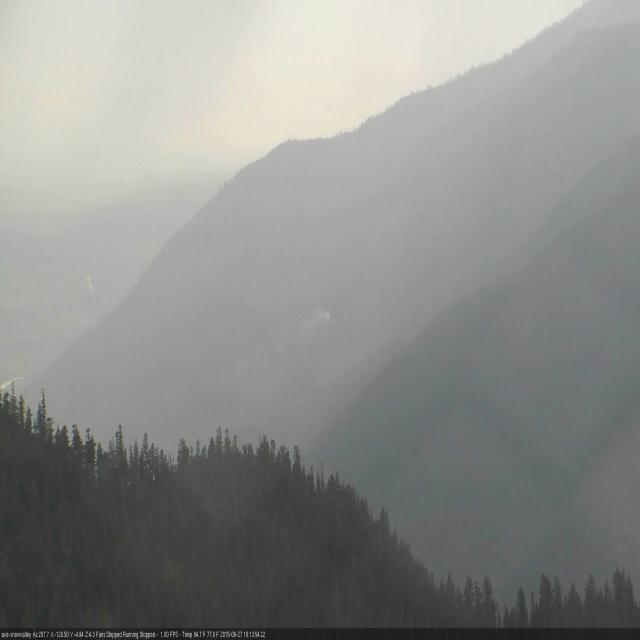smoke: (309, 308, 334, 324)
